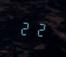two: (32, 19, 44, 37), (19, 19, 31, 36)
